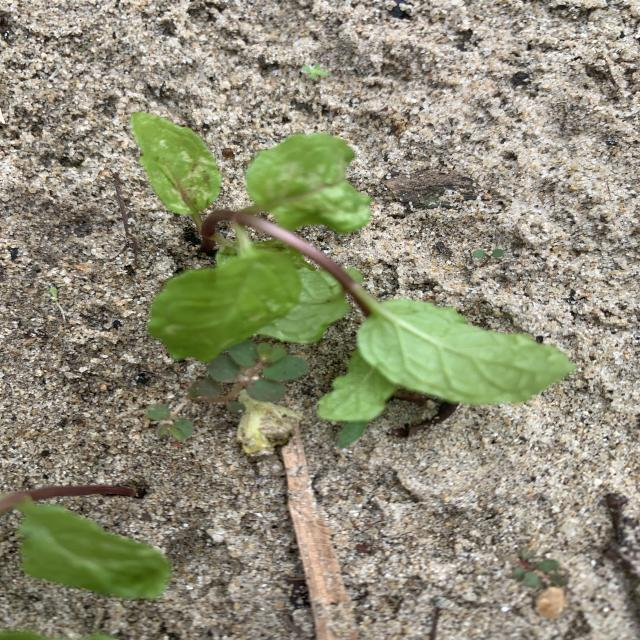crop: (132, 113, 574, 422), (2, 488, 169, 600)
weed: (185, 341, 307, 410), (511, 552, 566, 587), (145, 403, 194, 442), (474, 248, 503, 266), (301, 64, 327, 79)
